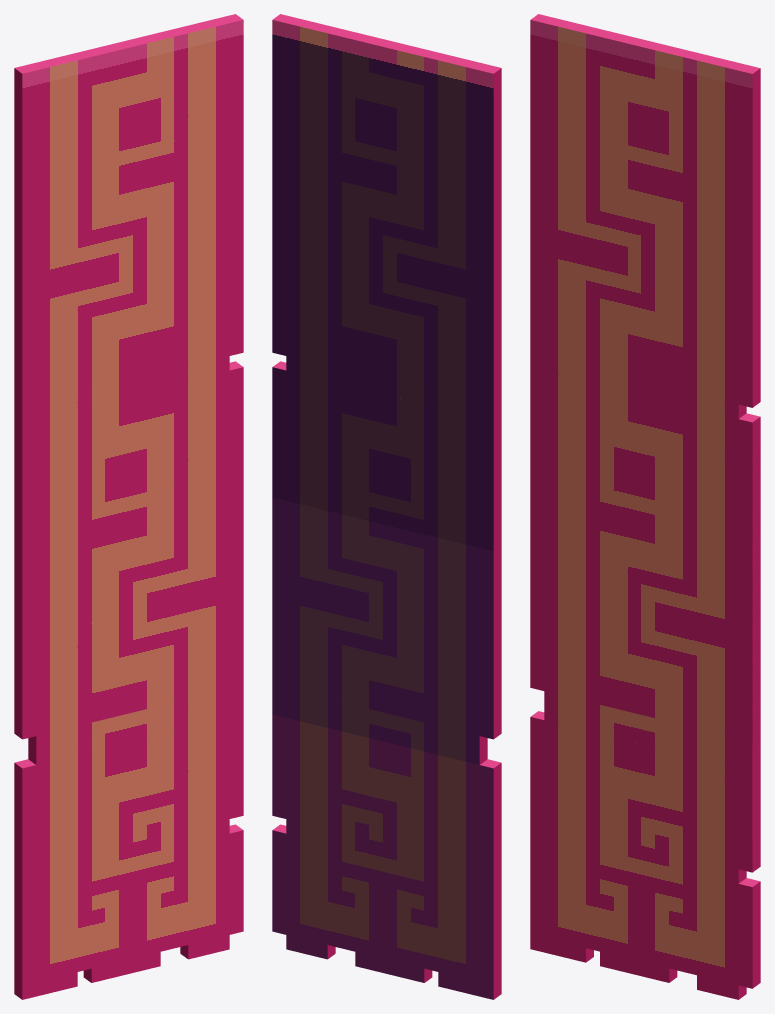
File: pyramid_banner_bao.fezao.glb
3 renders of one model, left to right at view 1: azimuth 30°, elevation 25°; view 2: azimuth 150°, elevation 25°; view 3: azimuth 330°, elevation 25°, orthographic.
Visible parts, largest first — view 1: PYRAMID_BANNER_BAO; view 2: PYRAMID_BANNER_BAO; view 3: PYRAMID_BANNER_BAO.
Boxes of the visible parts, bbox=[...] form: PYRAMID_BANNER_BAO: bbox=[14, 14, 243, 999]; PYRAMID_BANNER_BAO: bbox=[272, 14, 501, 999]; PYRAMID_BANNER_BAO: bbox=[530, 14, 760, 999].
Bounding box in the file's own units: 1 × 4 × 0.0625.
1 material, 1 textured.
